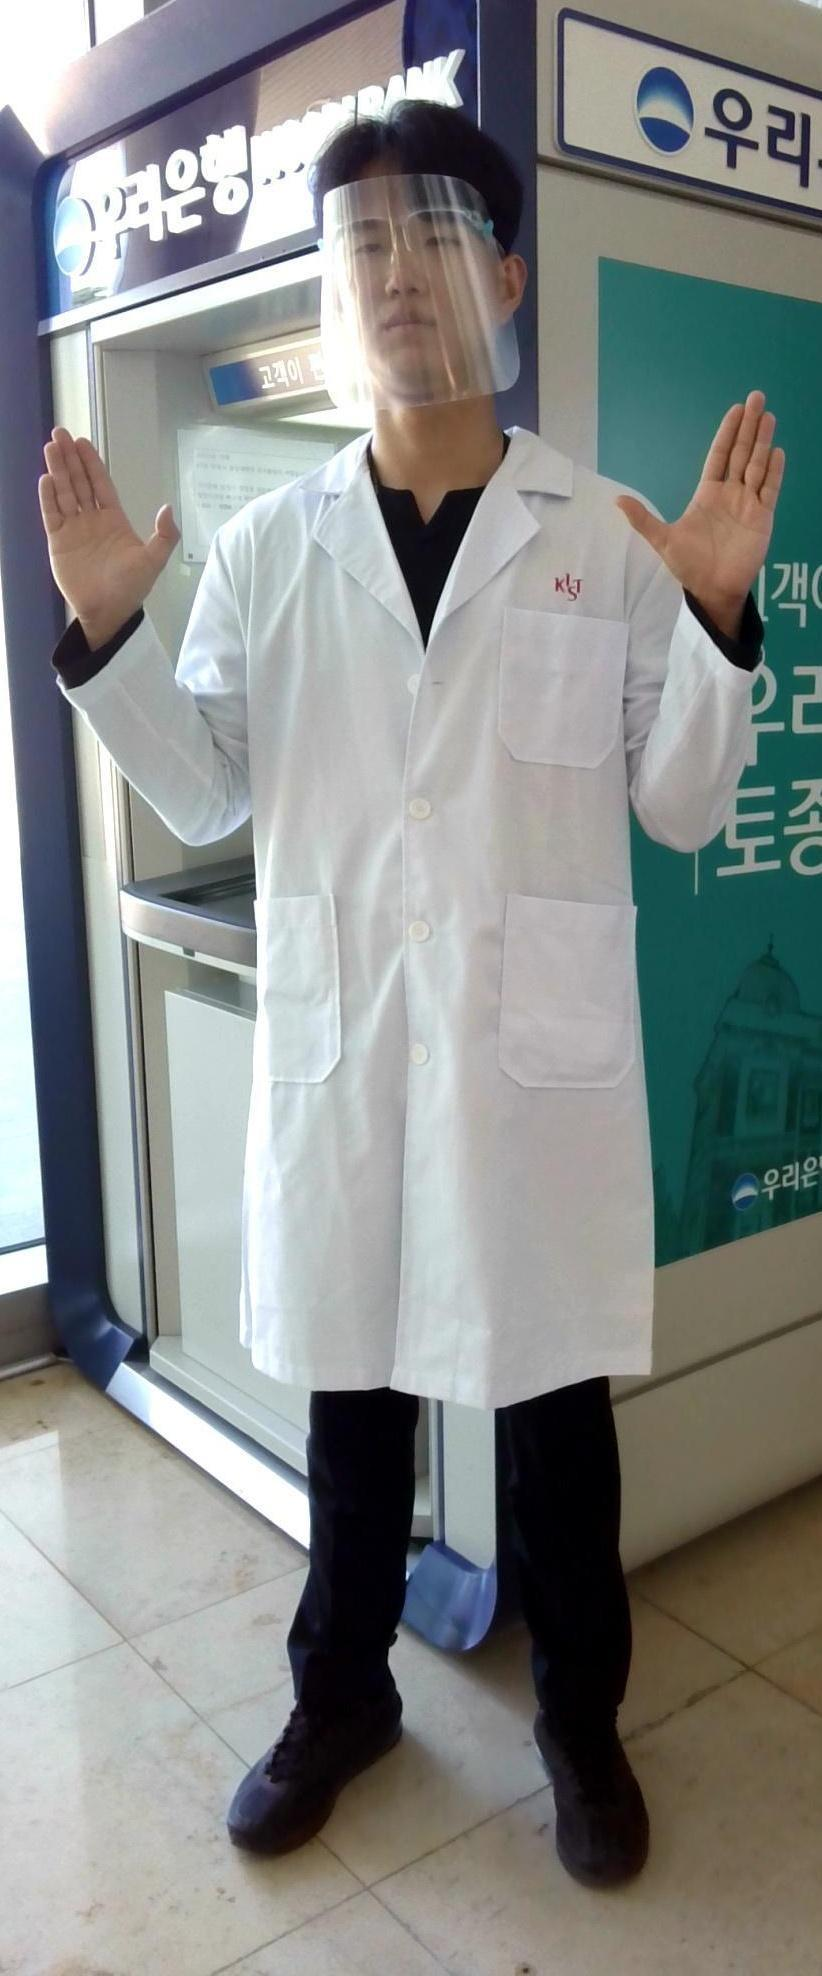lab_coat: (228, 481, 635, 1370)
